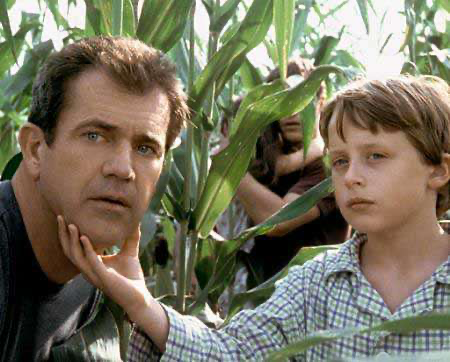Face: (51, 67, 175, 244), (321, 134, 431, 232)
